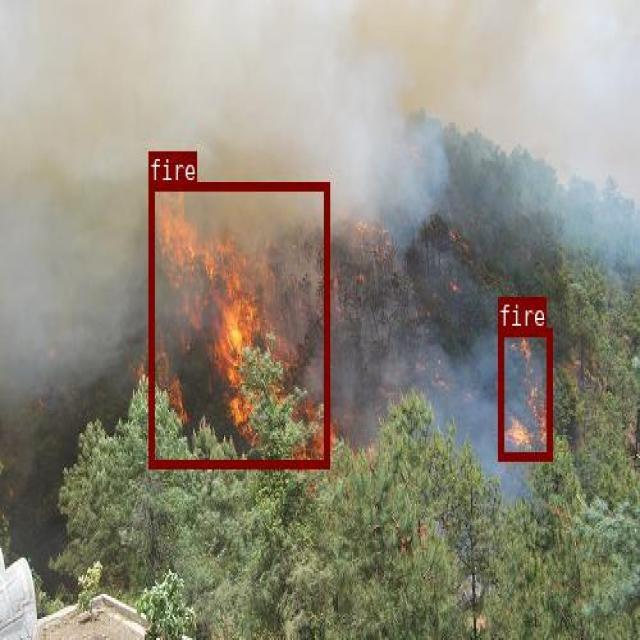fire: (148, 181, 329, 468), (498, 327, 551, 460)
